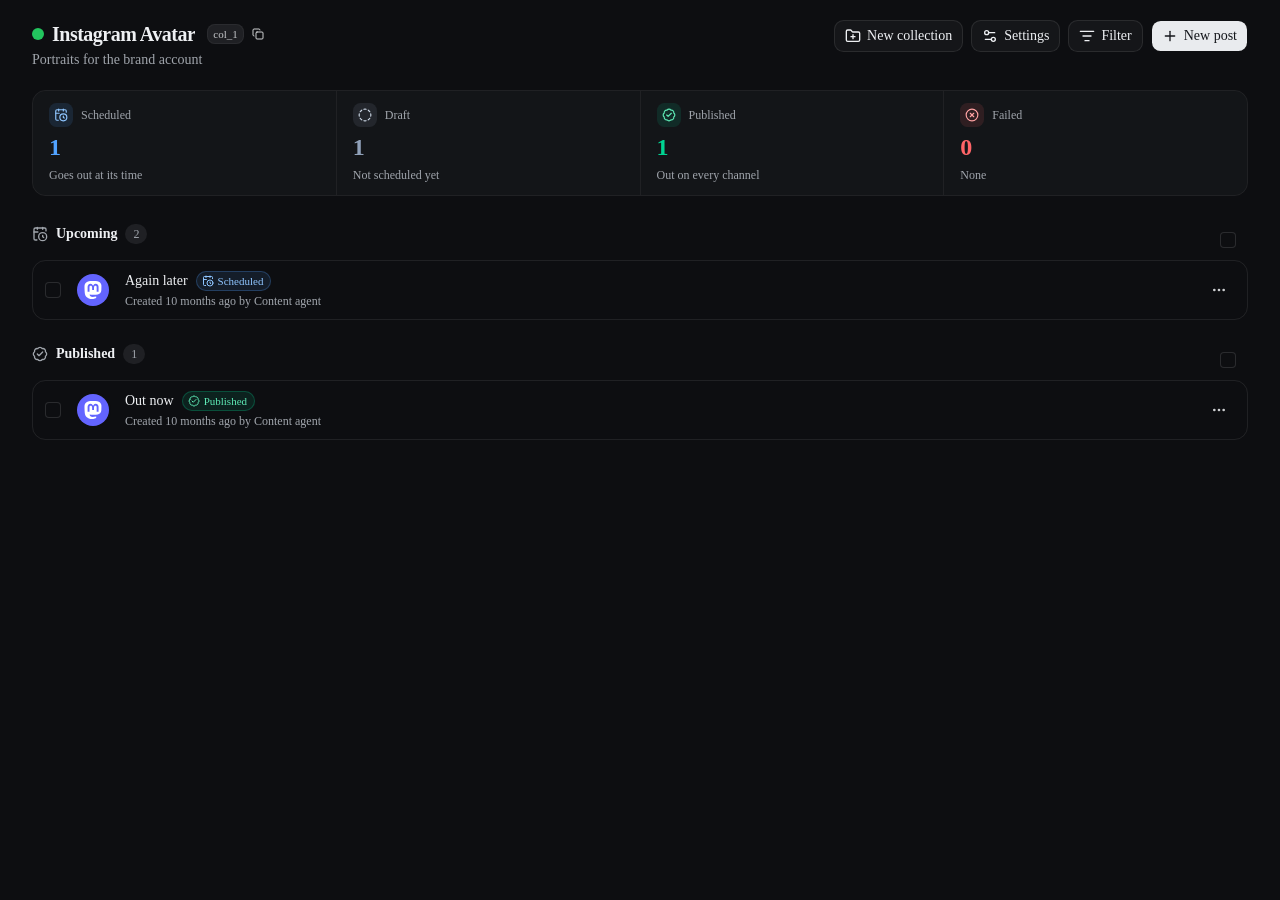
posts list › a scheduled post has nothing to open yet, though a channel took it earlier; a published one does
Click the button named "More actions for Again later": (1219, 290) [1203, 274, 1235, 306]
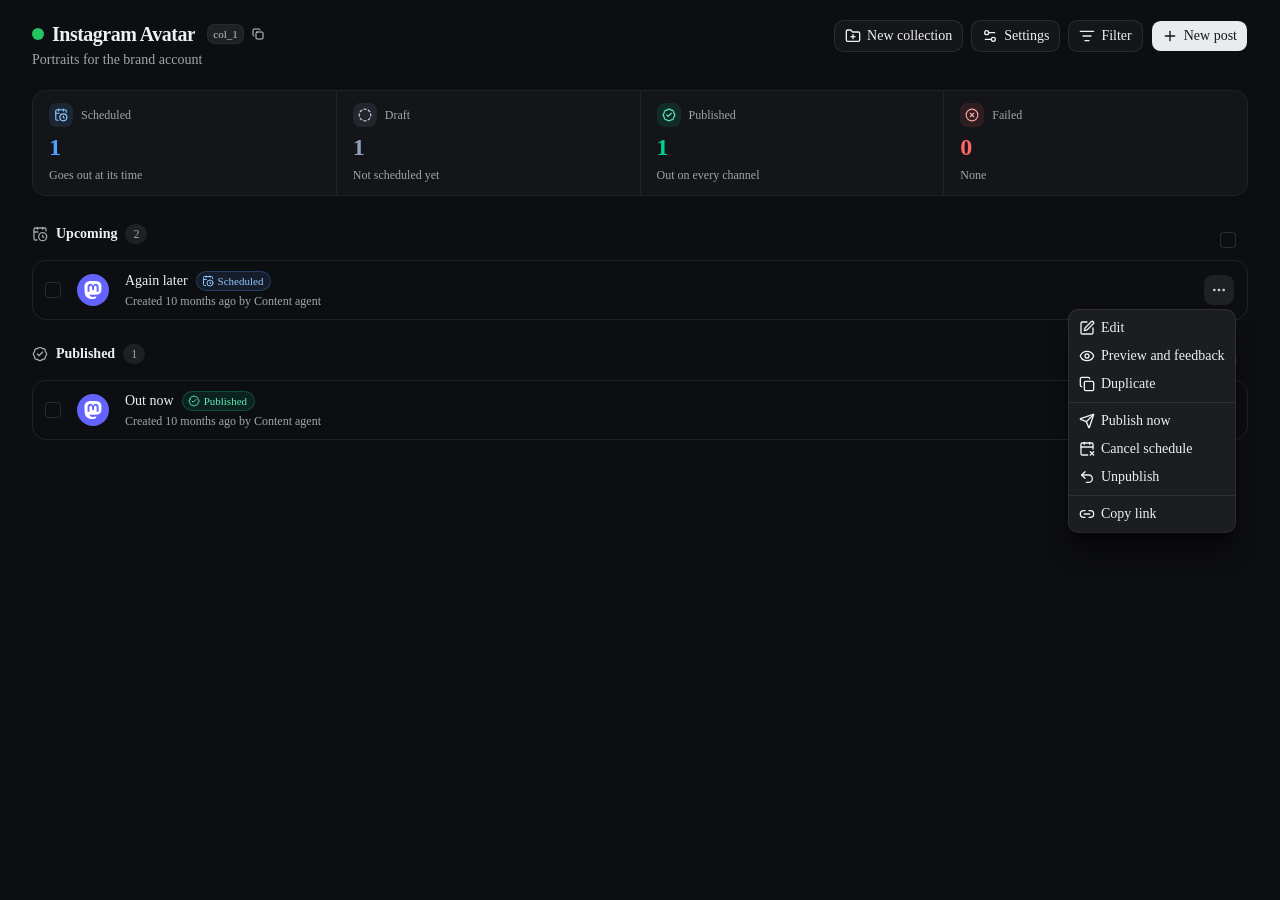
Expected: the menu item "Open on" is not shown
Expected: the menu item "Cancel schedule" is shown, [1079, 441, 1192, 457]
Press Escape
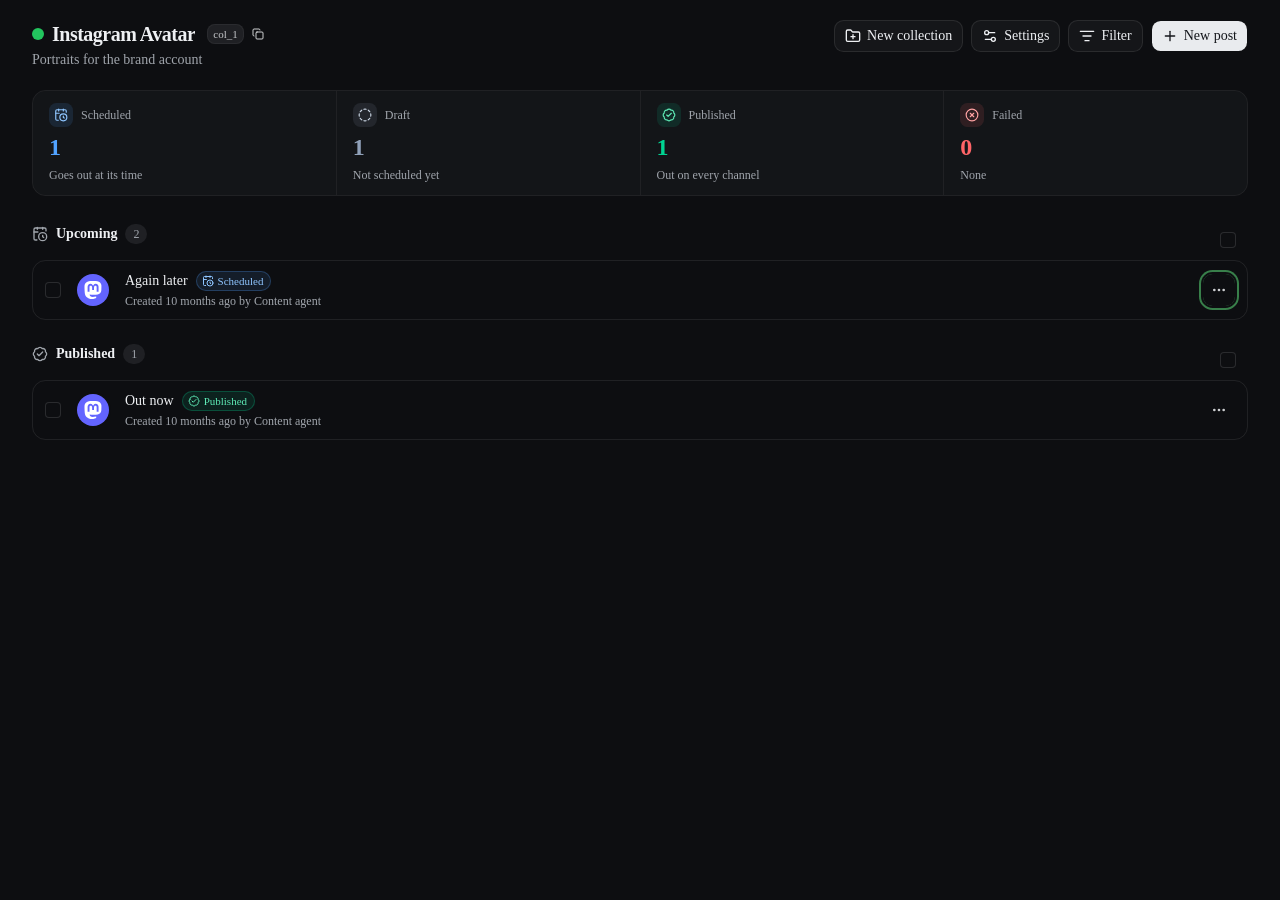
Click the button named "More actions for Out now": (1219, 410) [1203, 394, 1235, 426]
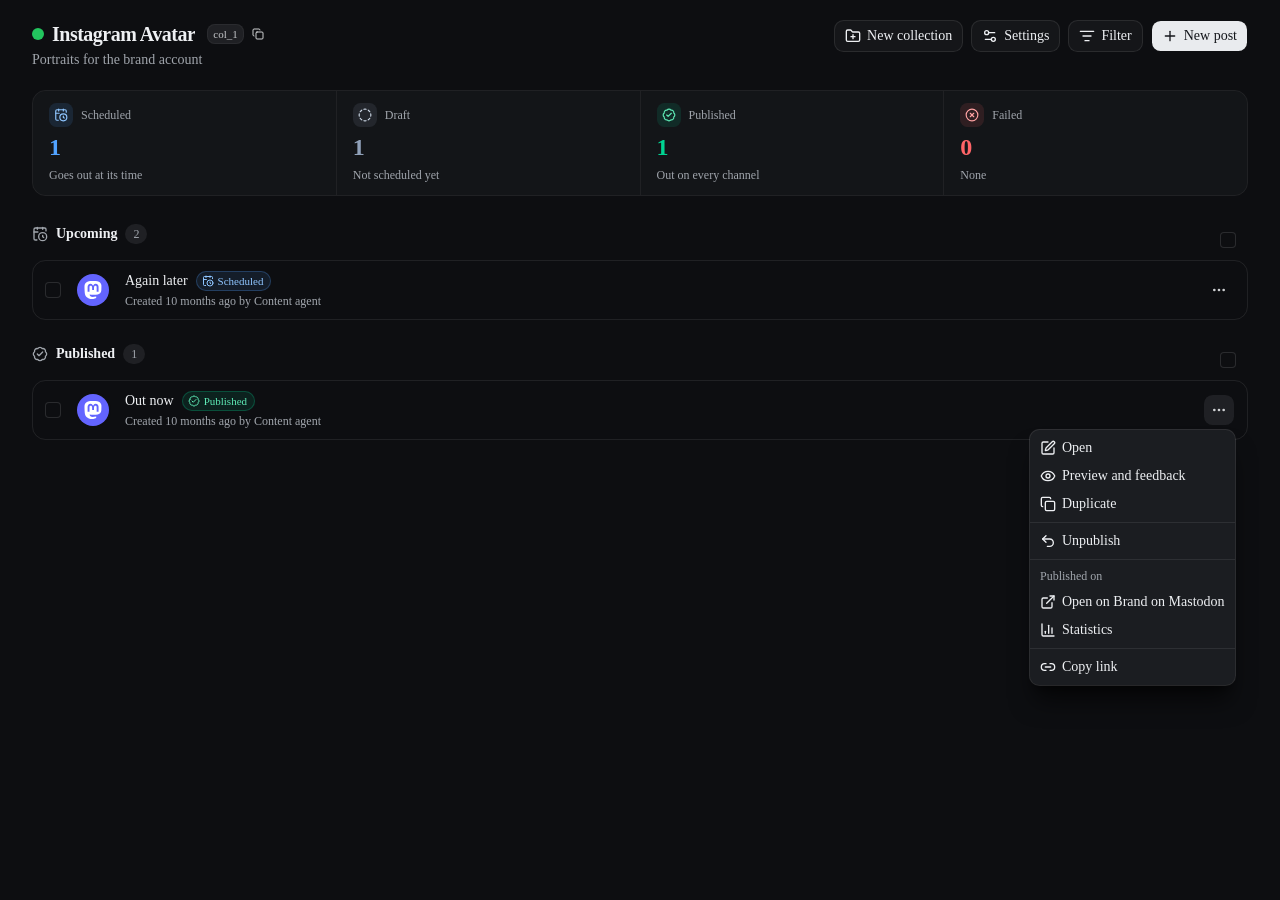
Expected: the menu item "Open on Brand on Mastodon" is shown, [1040, 594, 1224, 610]
Expected: the text "Published on" is shown, [1040, 569, 1102, 583]
